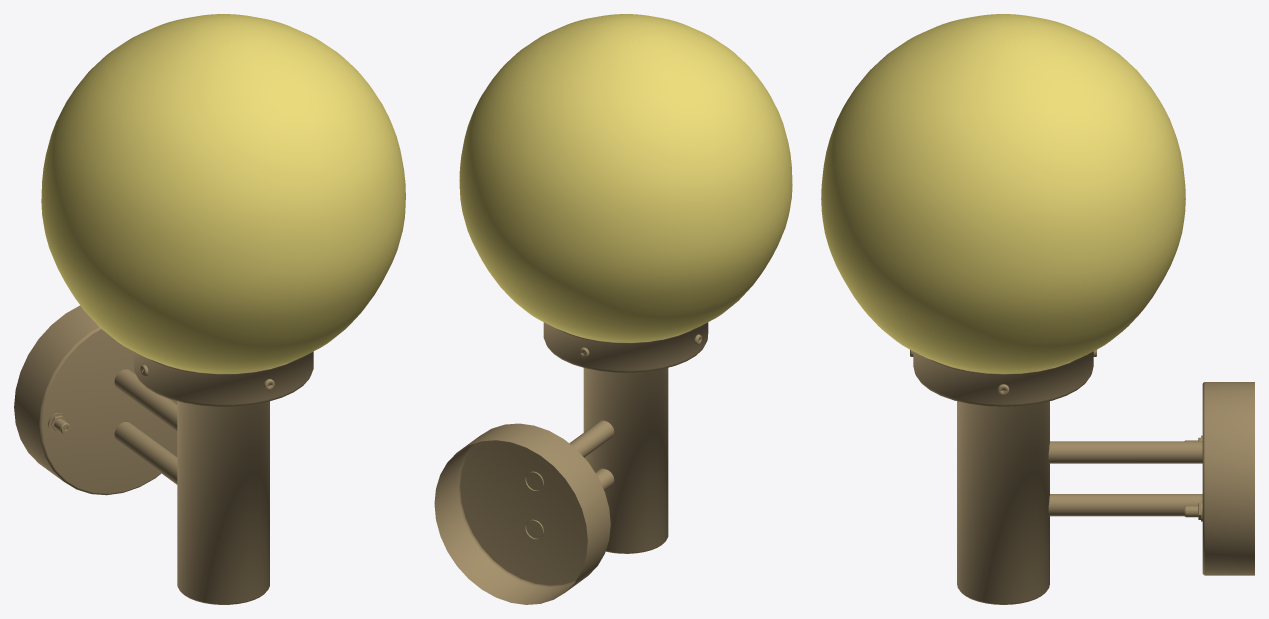
File: lampara.gltf
3 renders of one model, left to right at view 1: azimuth 30°, elevation 25°; view 2: azimuth 150°, elevation 25°; view 3: azimuth 270°, elevation 25°, orthographic. The views are drawn at different scales.
Visible parts, largest first — view 1: sconce_02; view 2: sconce_02; view 3: sconce_02.
Part boxes in pixels (bbox=[...]): sconce_02: bbox=[14, 14, 405, 604]; sconce_02: bbox=[434, 14, 792, 604]; sconce_02: bbox=[821, 14, 1254, 604].
Bounding box in the file's own units: 1.6 × 2.7 × 1.9.
